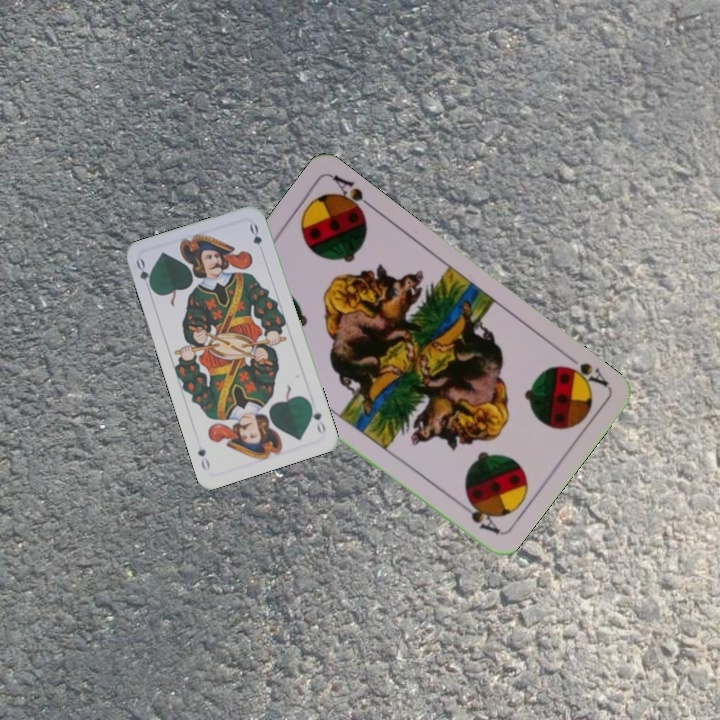GO: (132, 255, 156, 295), (305, 399, 328, 437)
SA: (555, 348, 611, 394)
